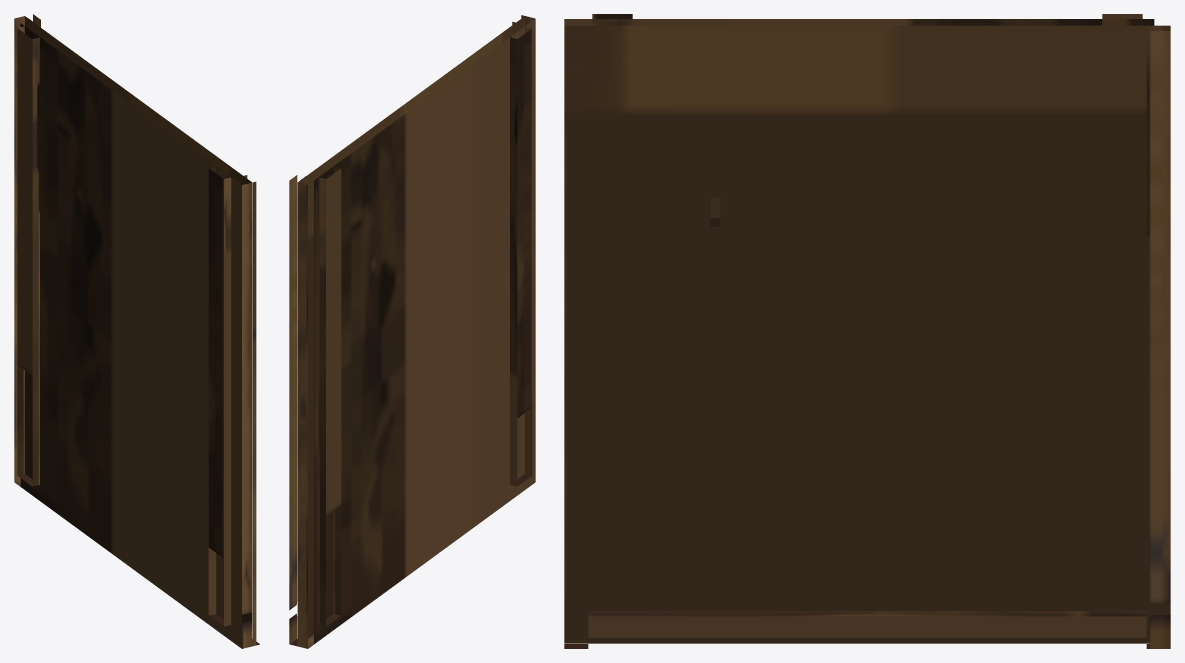
The model's file is section-3.obj.
3 renders of one model, left to right at view 1: azimuth 30°, elevation 25°; view 2: azimuth 150°, elevation 25°; view 3: azimuth 270°, elevation 25°, orthographic. The views are drawn at different scales.
Size of the model in its own units: 0.0995 by 0.848 by 0.754.
